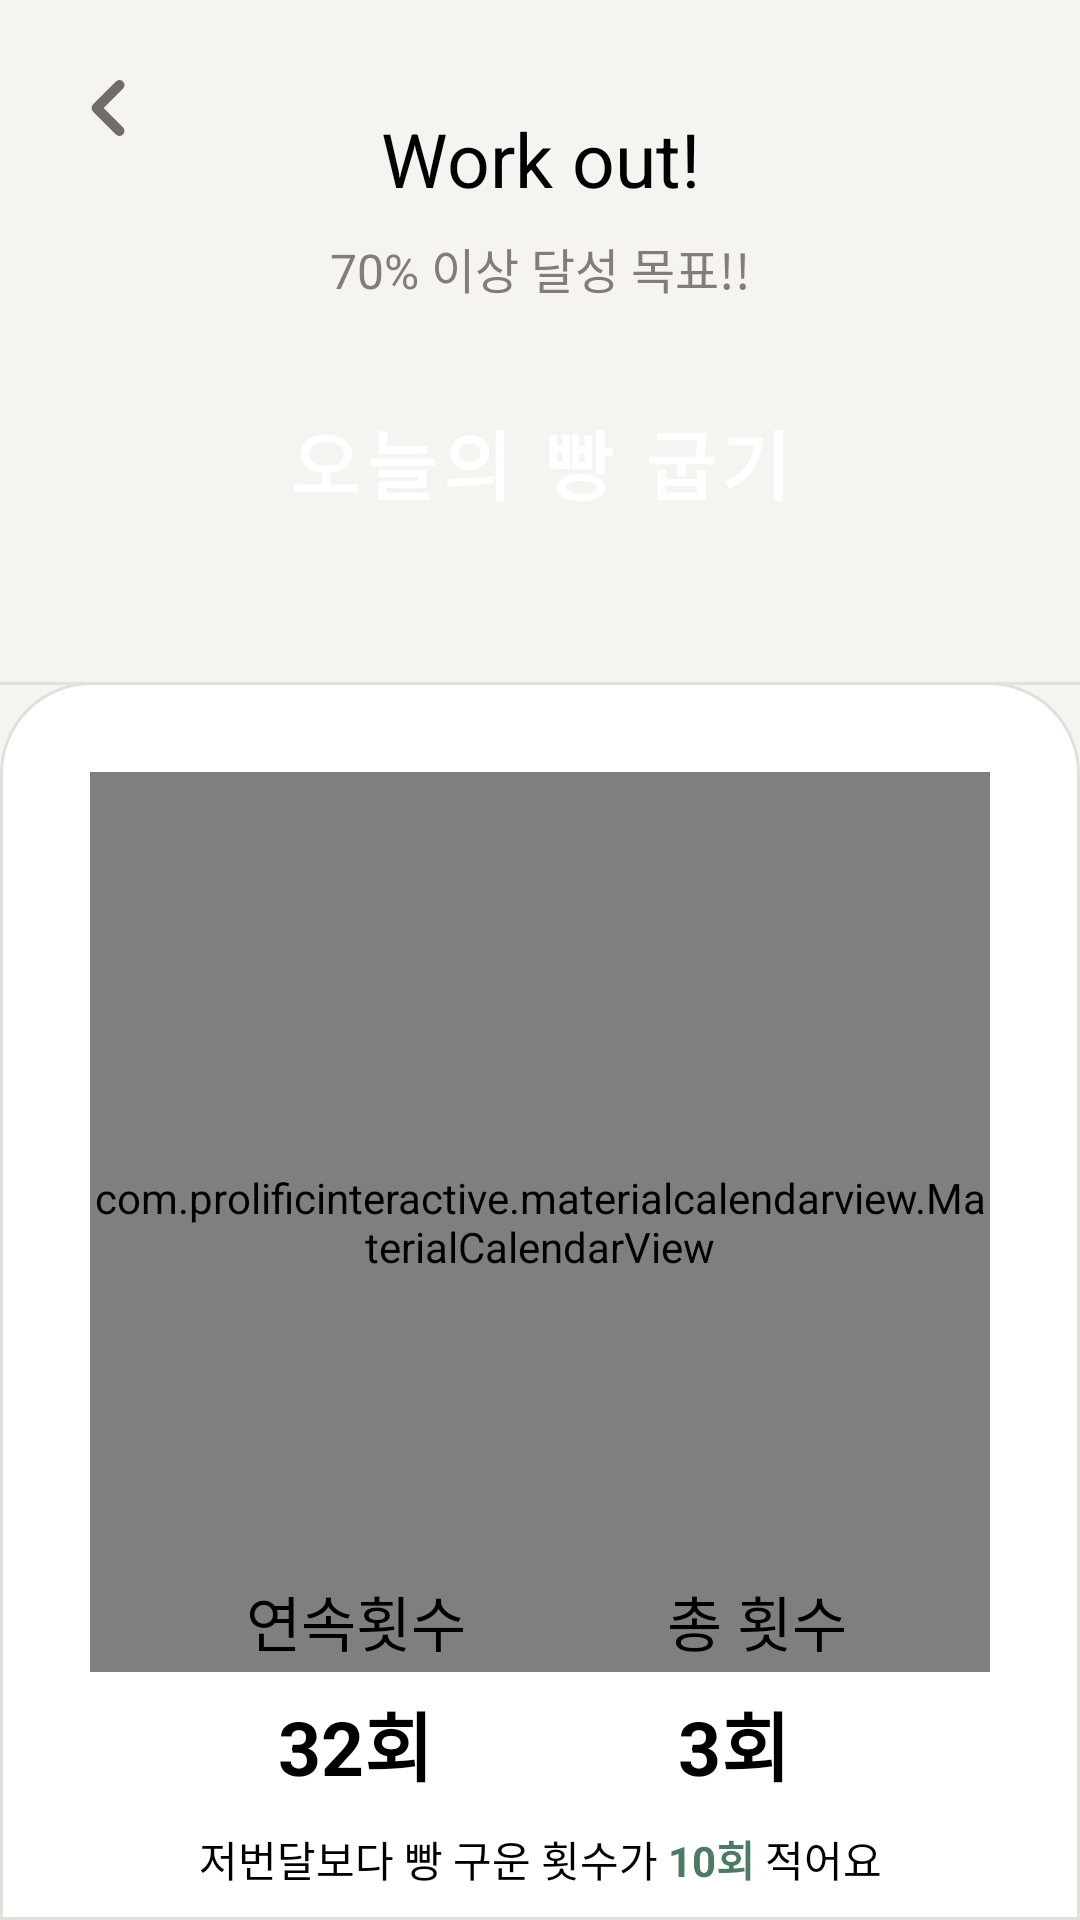

Where to tap for icons on this 1080*1920 app screen, as [x,y]:
back arrow: [108,108]
